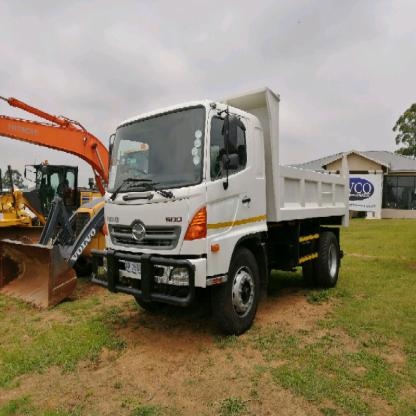dump_truck: (92, 65, 364, 355)
